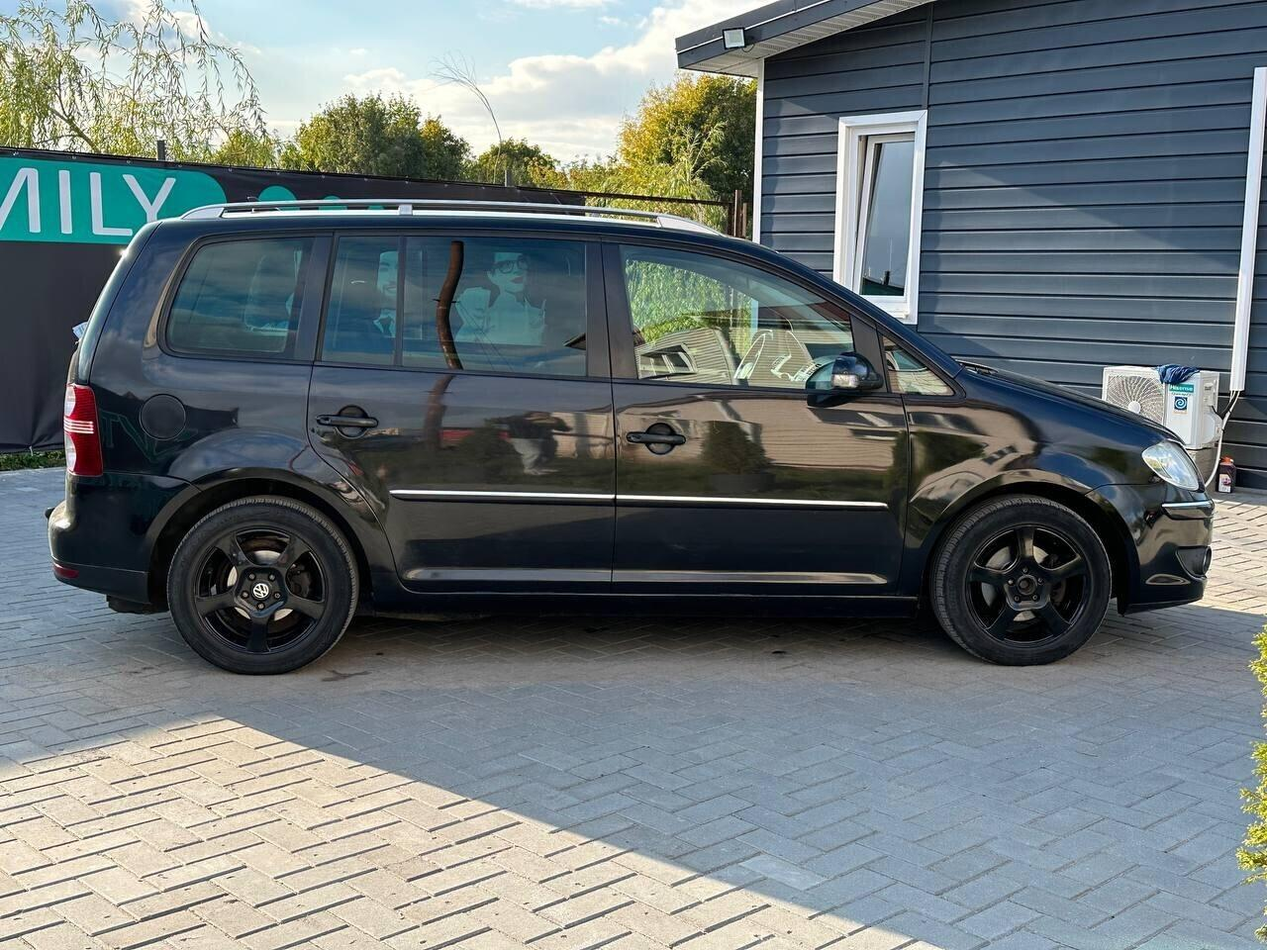Touran_2006-2010: (47, 203, 1214, 673)
